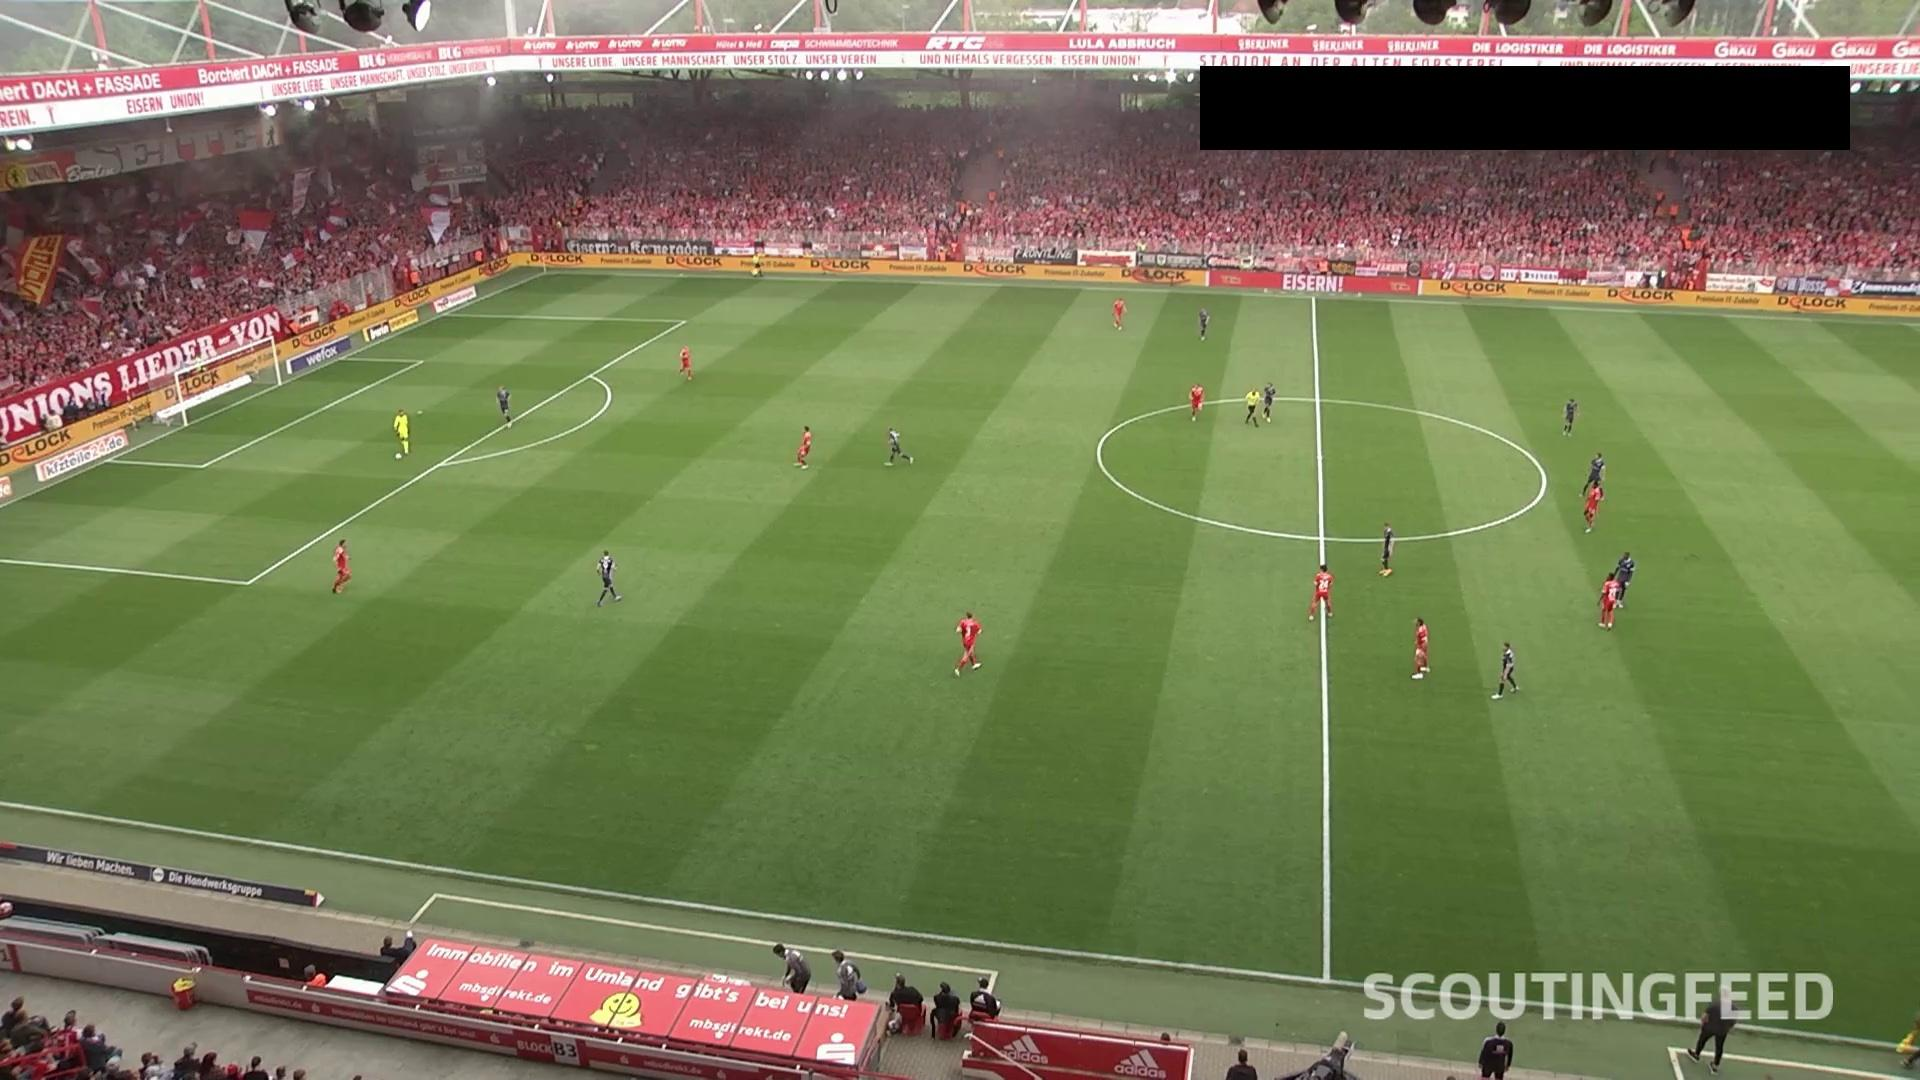Location-of-ball: (377, 440, 417, 472)
